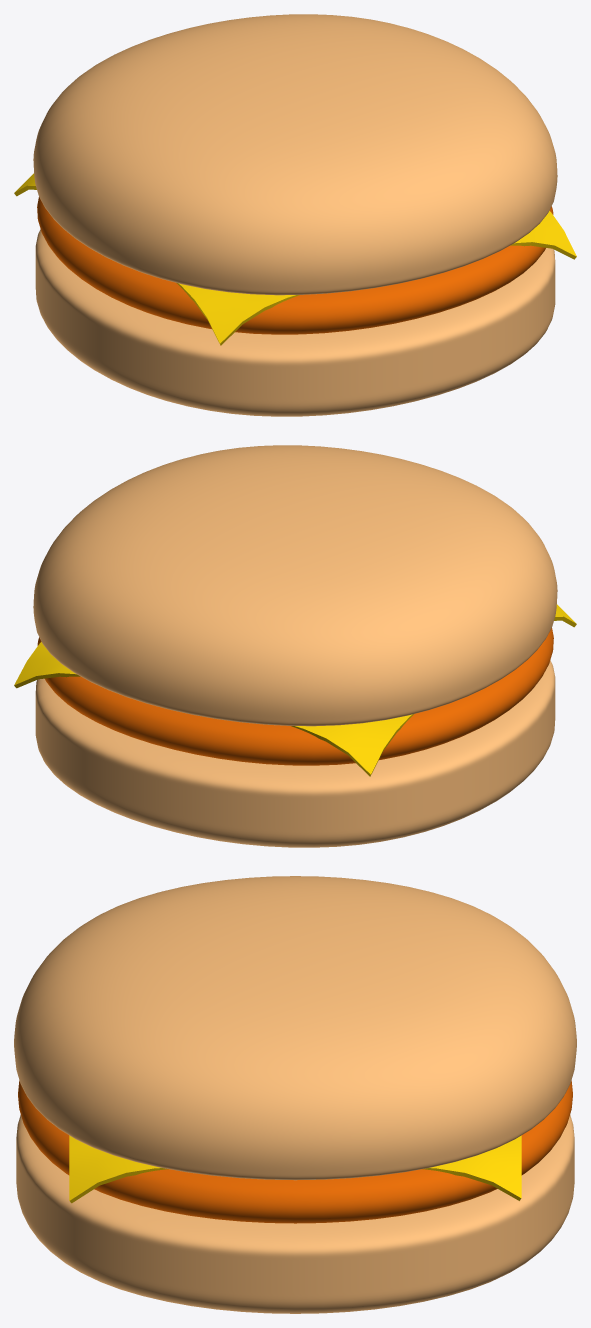
The model's file is hamburger.glb.
The picture shows the model from 3 angles, top to bottom: view 1: azimuth 30°, elevation 25°; view 2: azimuth 150°, elevation 25°; view 3: azimuth 270°, elevation 25°; orthographic projection. The views are drawn at different scales.
Visible parts, largest first — view 1: Cube, Cube.002, Cube.001, Plane; view 2: Cube, Cube.002, Cube.001, Plane; view 3: Cube, Cube.002, Cube.001, Plane.
Boxes of the visible parts, bbox=[...] form: Cube: bbox=[33, 14, 557, 295]; Cube.002: bbox=[35, 229, 555, 416]; Cube.001: bbox=[37, 197, 553, 334]; Plane: bbox=[14, 173, 576, 345]; Cube: bbox=[33, 445, 557, 726]; Cube.002: bbox=[35, 660, 555, 847]; Cube.001: bbox=[37, 628, 553, 765]; Plane: bbox=[14, 604, 576, 776]; Cube: bbox=[14, 876, 576, 1180]; Cube.002: bbox=[16, 1114, 574, 1313]; Cube.001: bbox=[18, 1080, 572, 1223]; Plane: bbox=[69, 1135, 521, 1203].
Size of the model in its own units: 9.24 by 5.05 by 9.24.
